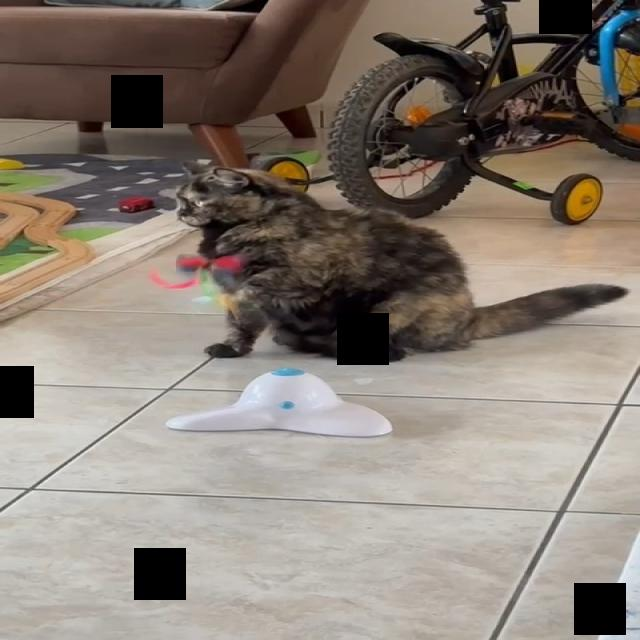authorized: (173, 160, 630, 362)
